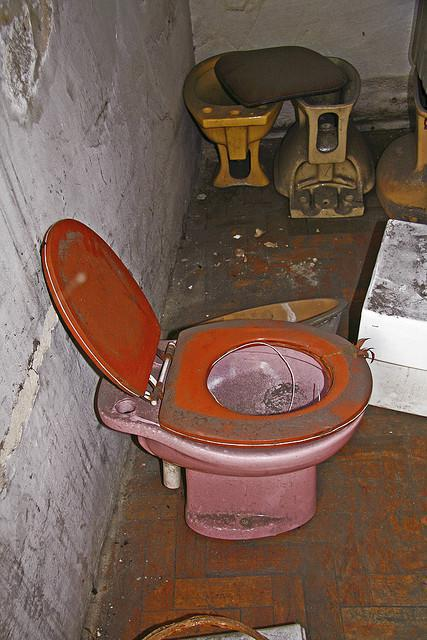Sanitario: (47, 237, 396, 544)
